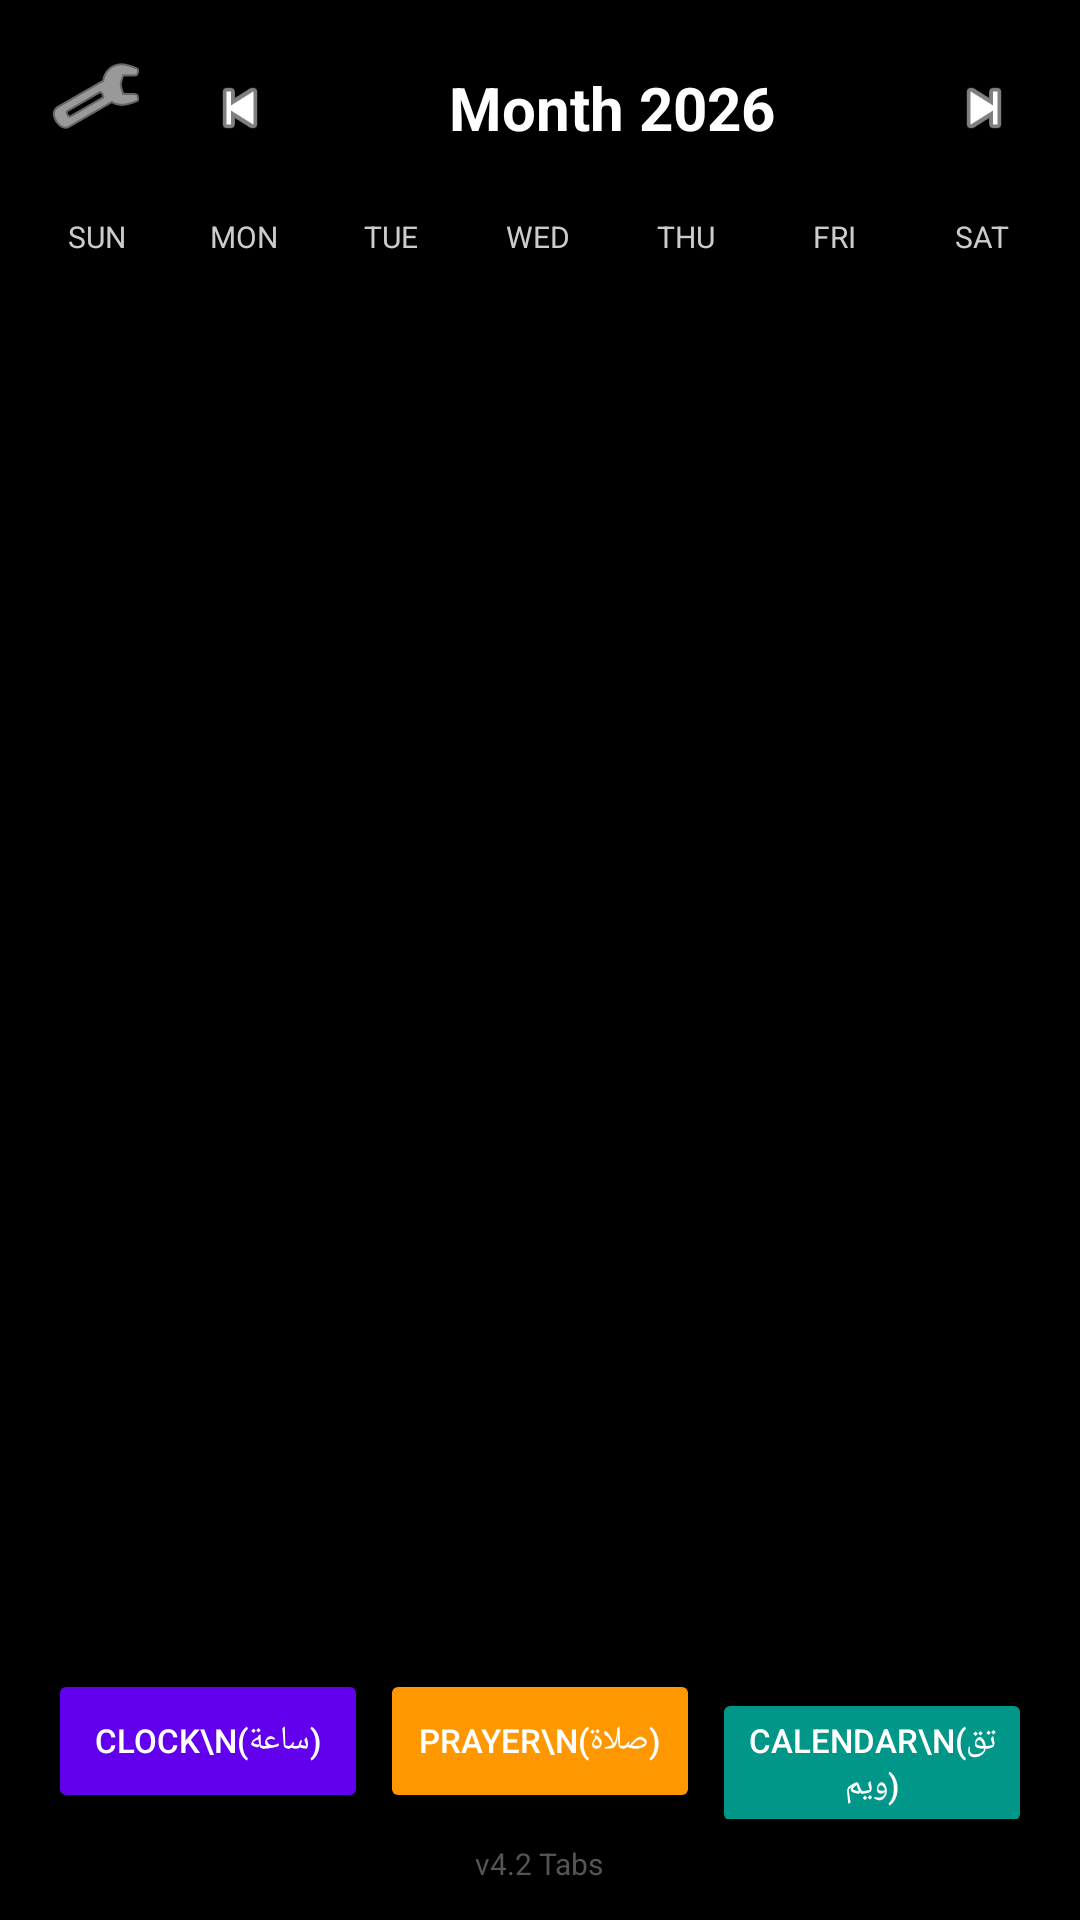

Point at icon controls on the screen. Image size 1080px×1920px, points as point (x, y).
next: point (984, 108)
preferences: point (96, 96)
previous: point (240, 108)
